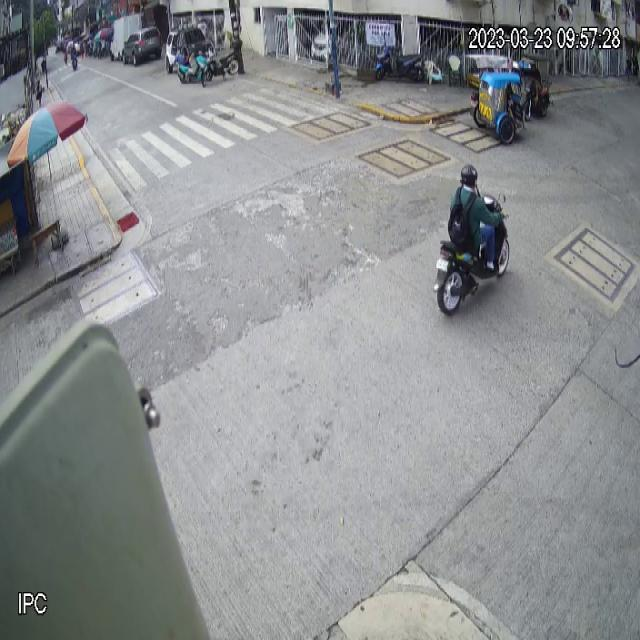Motorcycle: (433, 189, 513, 316)
Tricycle: (465, 56, 527, 145)
